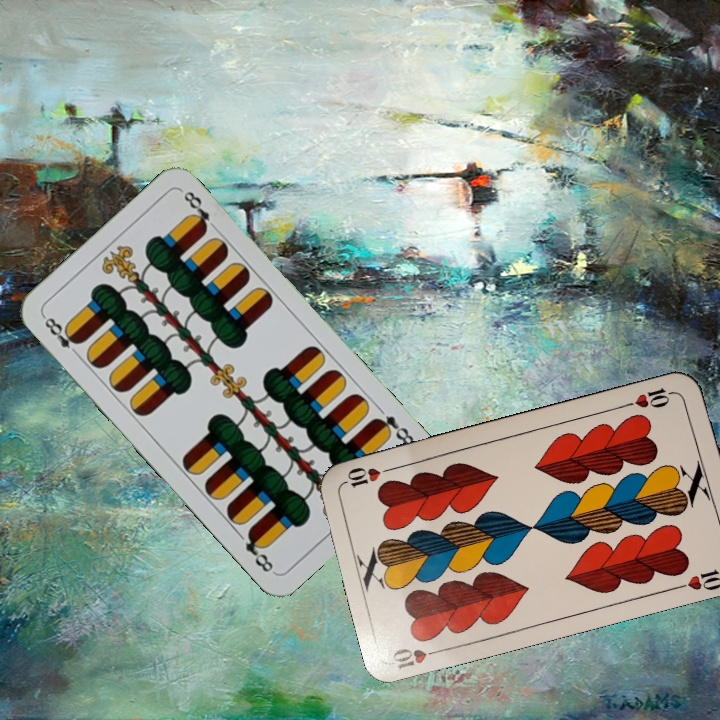E8: (39, 312, 84, 360), (369, 411, 417, 449)
H10: (388, 644, 448, 672), (621, 384, 680, 411)
